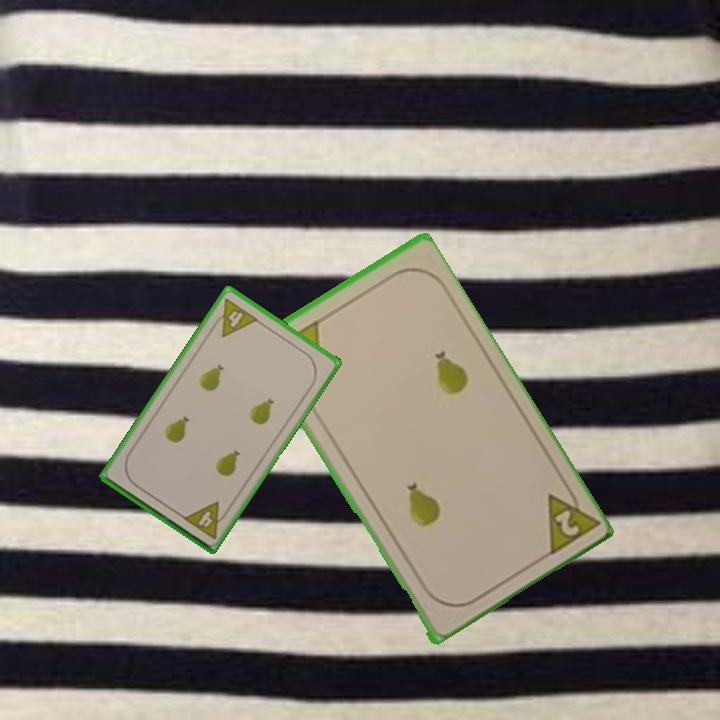2p: (541, 478, 600, 560)
4p: (207, 294, 261, 340), (179, 497, 232, 542)
